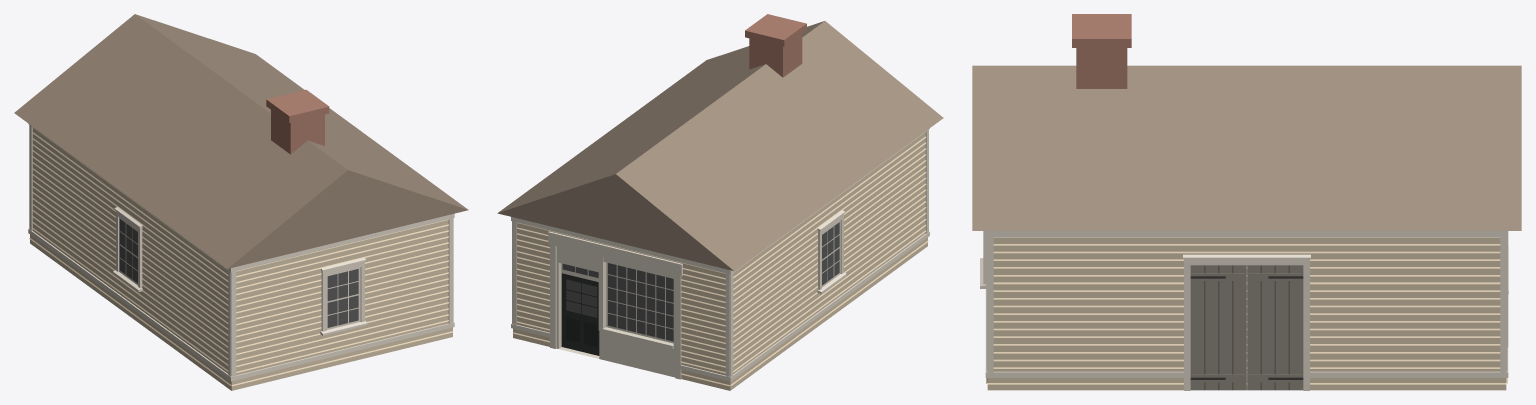
The model's file is recon_1835_core_c1_031__inferred_1835.glb.
The picture shows the model from 3 angles, left to right: view 1: azimuth 30°, elevation 25°; view 2: azimuth 150°, elevation 25°; view 3: azimuth 270°, elevation 25°; orthographic projection. The views are drawn at different scales.
Visible parts, largest first — view 1: recon_1835_core_c1_031__inferred_1835; view 2: recon_1835_core_c1_031__inferred_1835; view 3: recon_1835_core_c1_031__inferred_1835.
Part boxes in pixels (box(x1,y1,x2,y2)): recon_1835_core_c1_031__inferred_1835: box(14, 14, 468, 390); recon_1835_core_c1_031__inferred_1835: box(497, 14, 943, 390); recon_1835_core_c1_031__inferred_1835: box(972, 14, 1521, 390).
Bounding box in the file's own units: 5.92 × 5.35 × 9.04.
